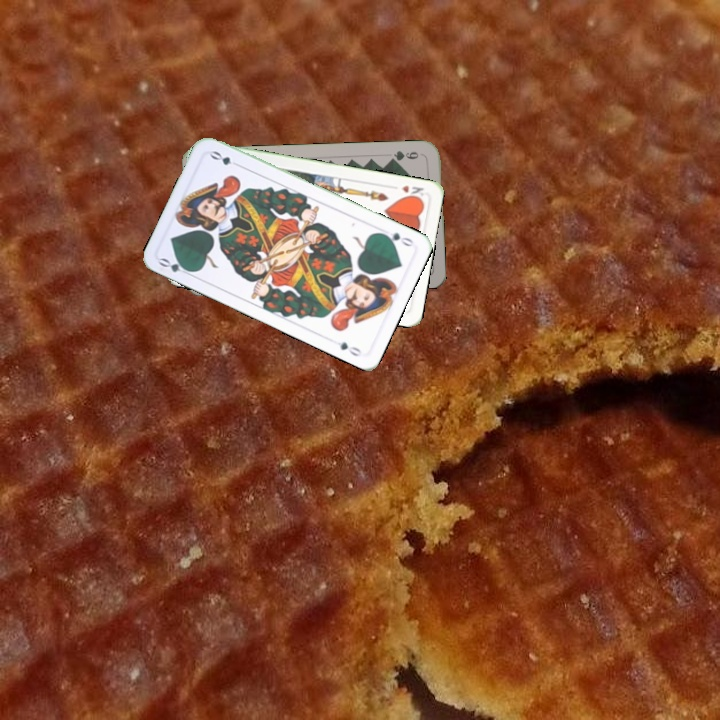G9: (385, 147, 426, 164)
GO: (155, 254, 195, 279), (377, 227, 416, 249)
HK: (397, 181, 426, 202)
